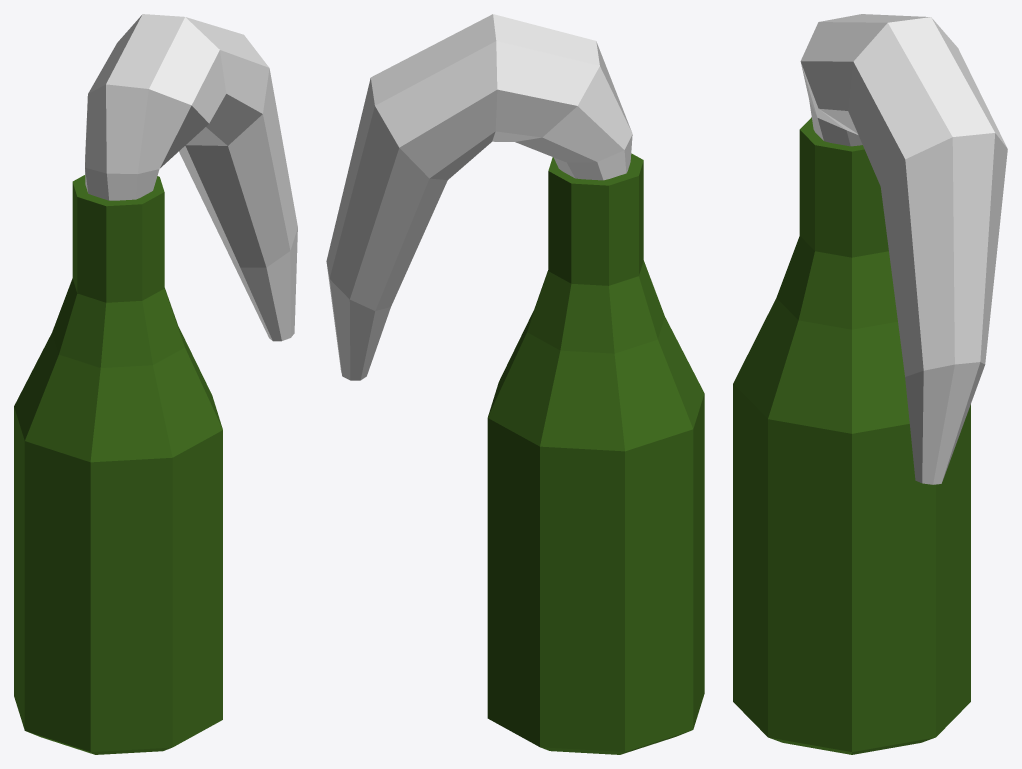
The model's file is molotov.fbx.
3 renders of one model, left to right at view 1: azimuth 30°, elevation 25°; view 2: azimuth 150°, elevation 25°; view 3: azimuth 270°, elevation 25°, orthographic. The views are drawn at different scales.
Parts seen in each view (by area): view 1: Cylinder; view 2: Cylinder; view 3: Cylinder.
Boxes of the visible parts, x1=… form: Cylinder: x1=14, y1=14, x2=297, y2=754; Cylinder: x1=326, y1=14, x2=704, y2=754; Cylinder: x1=733, y1=14, x2=1007, y2=754.
Bounding box in the file's own units: 327 × 683 × 231.
